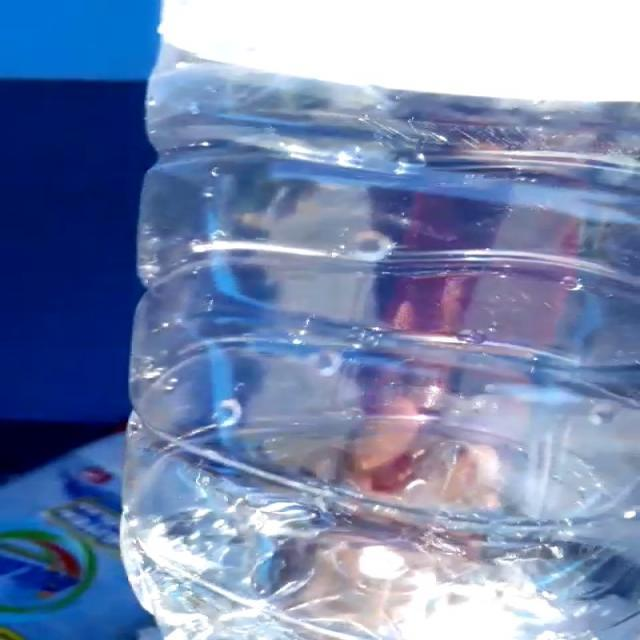Plastic: (121, 44, 640, 640)
